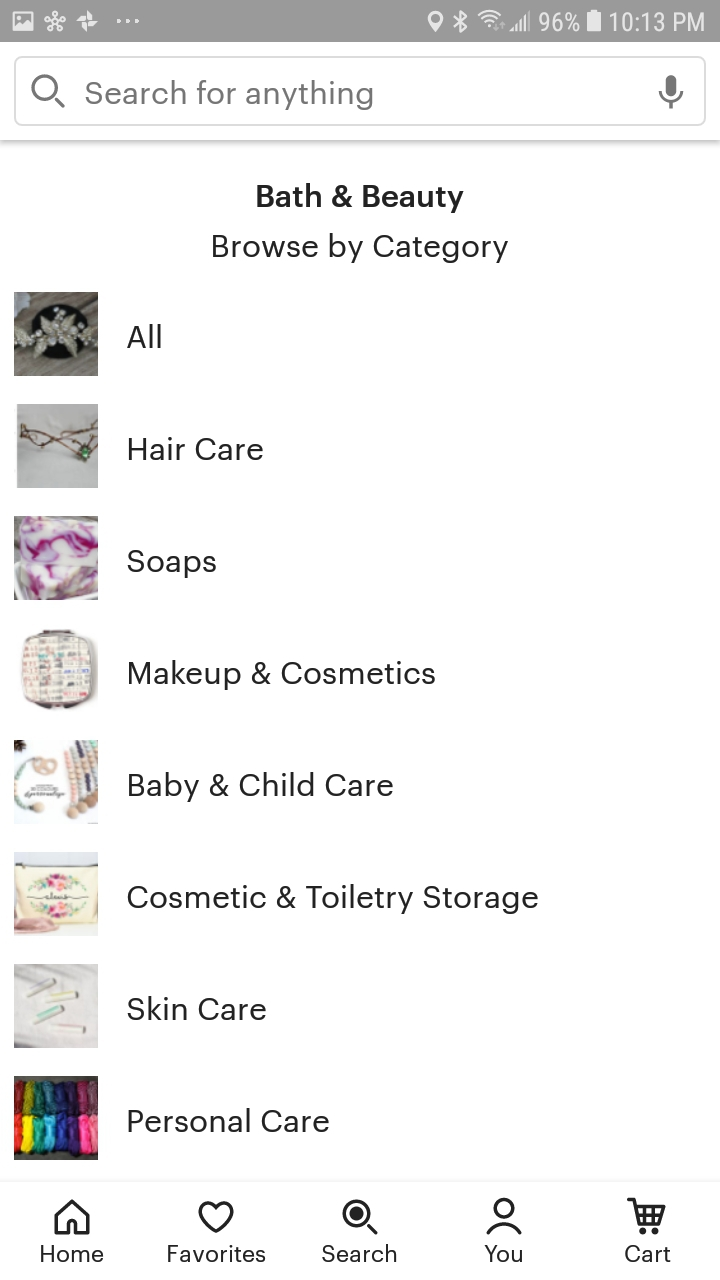EditText: (15, 57, 706, 127)
Icon: (627, 1196, 667, 1235), (486, 1198, 523, 1236), (54, 1198, 91, 1235), (342, 1199, 379, 1236), (198, 1200, 235, 1234), (32, 75, 66, 109), (658, 76, 684, 110)
Image: (15, 292, 100, 377), (14, 516, 99, 601), (14, 740, 99, 825), (14, 852, 99, 937), (14, 1075, 99, 1160), (15, 964, 99, 1048), (17, 404, 99, 489), (21, 630, 99, 711)
Text: (128, 884, 539, 915), (129, 660, 436, 691), (213, 232, 509, 264), (86, 81, 374, 111), (129, 771, 394, 803), (257, 183, 465, 215), (128, 1107, 330, 1133), (128, 995, 267, 1021), (129, 437, 264, 462), (127, 550, 217, 579), (167, 1244, 266, 1263), (322, 1243, 397, 1263), (41, 1244, 105, 1263), (127, 323, 162, 349), (624, 1244, 671, 1263), (484, 1244, 523, 1263)
UpperTaskBar: (1, 1, 720, 43)
